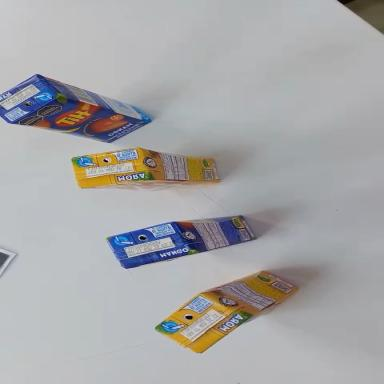HIT-MANGO: (0, 65, 154, 166), (106, 203, 256, 272)
HIT-MORA: (152, 248, 300, 367), (71, 142, 219, 193)
cara_F: (11, 86, 151, 159)
